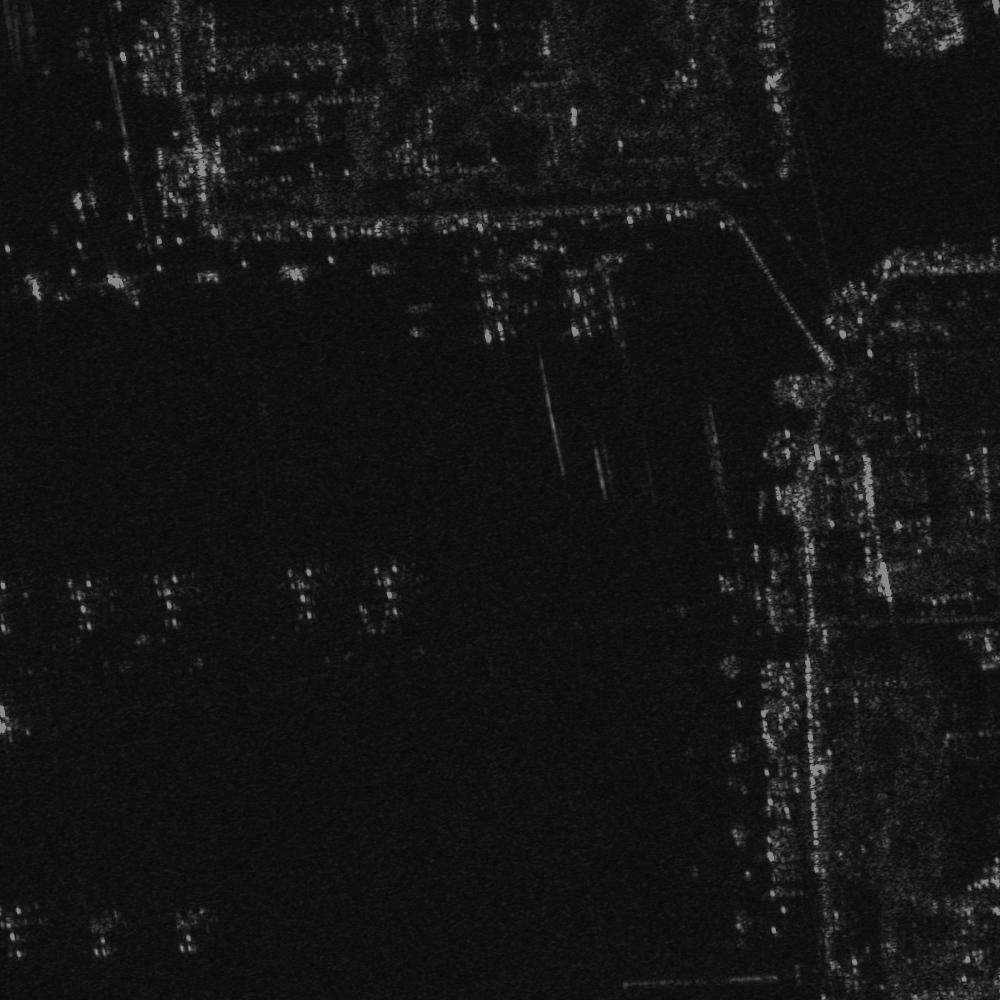A220: (75, 900, 126, 961)
A320/321: (161, 900, 215, 958)
ARJ21: (457, 266, 532, 346)
Boeing737: (549, 264, 618, 343), (89, 262, 155, 312)
other: (352, 555, 422, 625), (138, 563, 200, 639), (57, 565, 108, 639), (275, 559, 324, 629)
